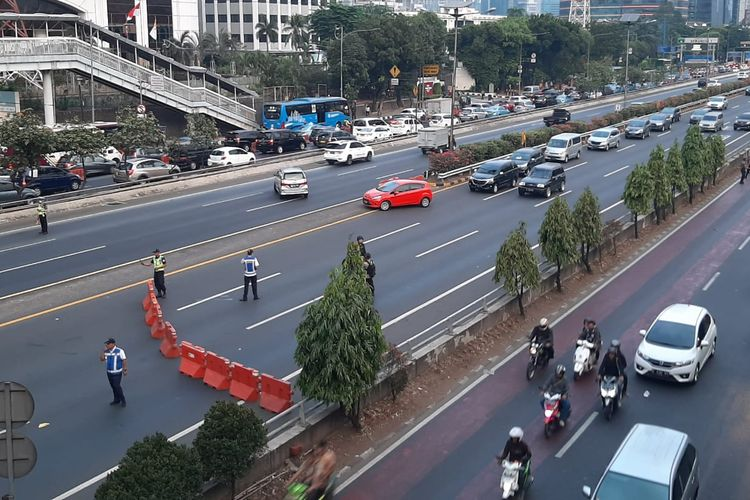car: (577, 422, 699, 500), (634, 303, 721, 389), (265, 95, 352, 134), (364, 178, 435, 209), (113, 159, 181, 188), (12, 165, 82, 192), (470, 160, 519, 194), (519, 165, 566, 198), (167, 145, 221, 169), (258, 129, 307, 155), (59, 153, 112, 177), (325, 141, 375, 165), (417, 128, 459, 156), (274, 168, 309, 201), (546, 134, 582, 164), (1, 181, 41, 207), (209, 148, 257, 169), (510, 148, 545, 175), (227, 132, 268, 154), (589, 127, 618, 154), (390, 116, 421, 137), (626, 117, 649, 145), (357, 125, 392, 143), (544, 108, 571, 127), (702, 112, 722, 133), (649, 114, 669, 134), (661, 107, 681, 125), (708, 96, 728, 111), (733, 115, 750, 132)
motorbike: (497, 429, 536, 498), (541, 368, 574, 435), (602, 343, 628, 423), (527, 319, 557, 377), (577, 321, 603, 382)
